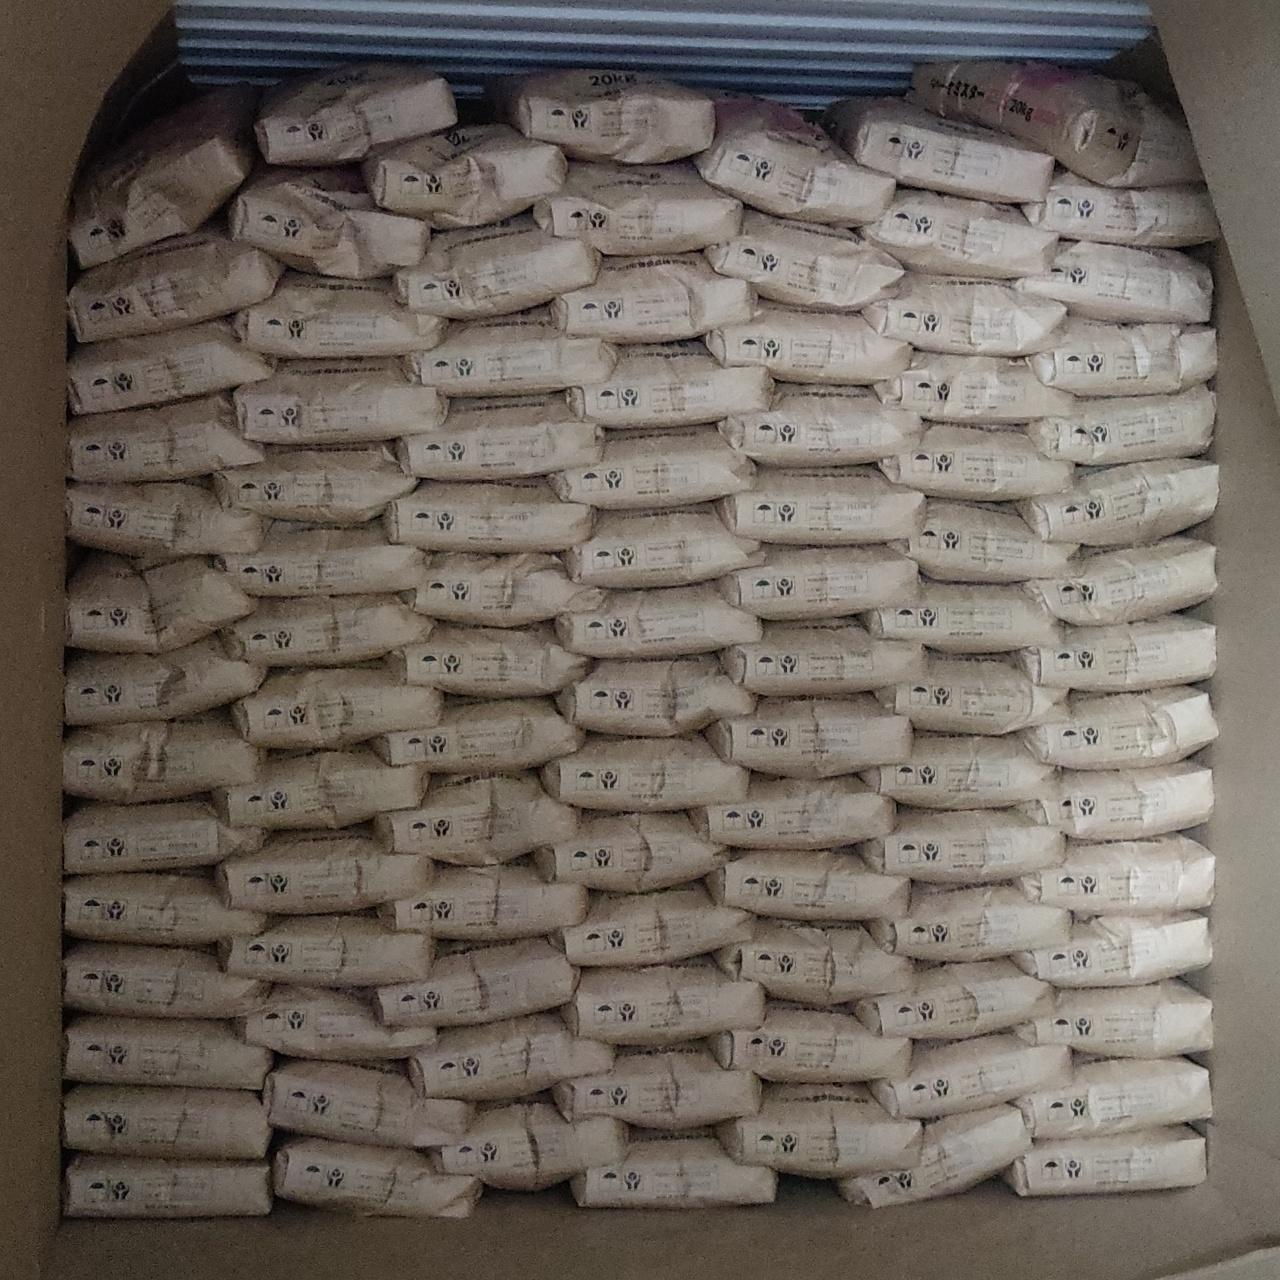sack: (910, 60, 1200, 182), (70, 88, 256, 266), (68, 220, 282, 342), (694, 105, 892, 224), (830, 98, 1051, 200), (229, 168, 428, 278), (394, 216, 598, 318), (484, 70, 716, 159), (365, 125, 566, 226), (256, 64, 454, 164), (706, 210, 903, 309), (535, 162, 740, 254), (838, 1107, 1030, 1204), (68, 320, 272, 411), (716, 1084, 918, 1175), (68, 554, 254, 652), (264, 1060, 472, 1146), (64, 708, 264, 798), (552, 254, 756, 342), (66, 634, 264, 724), (430, 1098, 628, 1189), (216, 826, 430, 910), (561, 958, 764, 1046), (234, 272, 445, 356), (376, 774, 578, 862), (236, 360, 445, 444), (406, 309, 614, 394), (232, 663, 440, 748), (215, 745, 428, 828), (410, 1012, 612, 1098), (860, 188, 1054, 278), (399, 394, 602, 478), (376, 938, 576, 1022), (716, 918, 910, 1005), (706, 300, 910, 382), (568, 343, 772, 425), (550, 425, 754, 508), (554, 1044, 758, 1126), (70, 392, 263, 478), (1024, 536, 1214, 622), (862, 272, 1062, 354), (552, 881, 753, 964), (1016, 459, 1216, 542), (872, 1034, 1070, 1116), (272, 1136, 478, 1214), (720, 384, 922, 464), (372, 696, 583, 772), (380, 860, 586, 938), (708, 1000, 910, 1078), (852, 960, 1054, 1039), (706, 696, 910, 774), (68, 482, 264, 561), (1016, 836, 1214, 914), (1014, 241, 1212, 320), (1014, 760, 1212, 838), (1020, 168, 1218, 246), (858, 808, 1062, 884), (215, 444, 414, 522), (566, 506, 760, 586), (719, 467, 924, 542), (876, 652, 1062, 734), (220, 914, 434, 986), (218, 522, 428, 594), (556, 583, 758, 658), (234, 986, 434, 1062), (64, 1014, 270, 1088), (558, 656, 754, 734), (1014, 1056, 1210, 1133), (1020, 688, 1214, 765), (890, 501, 1078, 580), (64, 1085, 270, 1158), (722, 620, 924, 694), (572, 1132, 774, 1206), (878, 424, 1073, 501), (542, 734, 745, 806), (870, 884, 1070, 958), (535, 812, 726, 890), (692, 774, 894, 846), (719, 544, 918, 618), (1024, 316, 1214, 394), (860, 731, 1056, 806), (64, 798, 270, 870), (1016, 617, 1214, 690), (384, 481, 595, 550), (386, 622, 588, 694), (64, 870, 264, 942), (64, 942, 266, 1014), (1026, 386, 1214, 462), (222, 594, 433, 662), (706, 847, 908, 918), (862, 580, 1060, 652), (1014, 982, 1212, 1054), (404, 552, 602, 624), (1012, 914, 1208, 986), (874, 352, 1074, 422), (1005, 1126, 1204, 1194), (64, 1155, 270, 1214)
